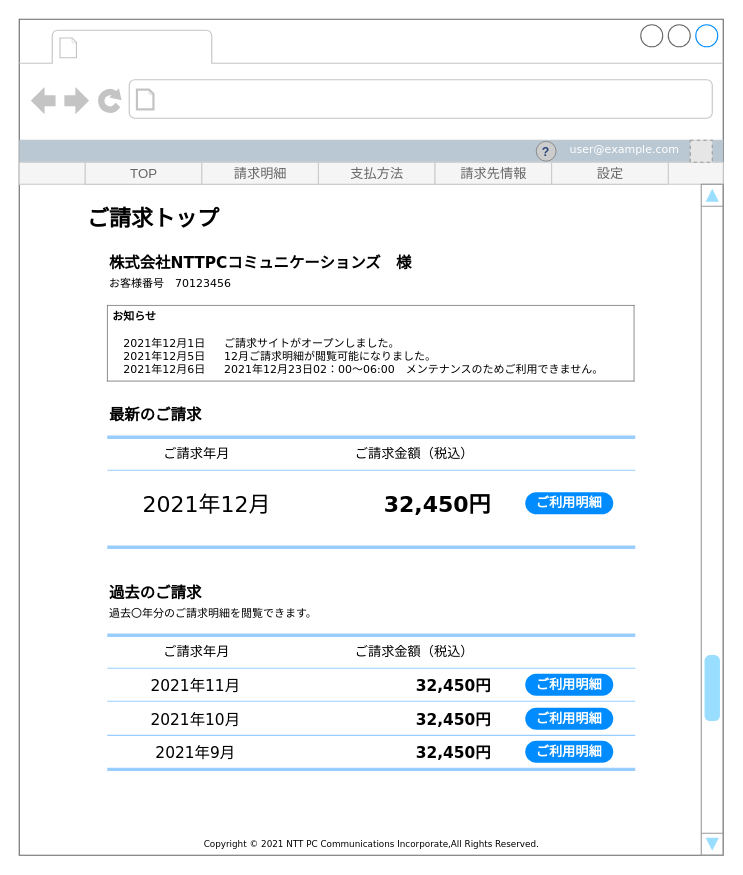
The diagram is 743 pixels wide and 875 high, and some of its shapes have lost their labels. Grey dashed boxes stand in for pictures. Here are the shapes that lost their labels. From the top down, the box of each, then its label:
(84, 31, 206, 61): Page 1
(161, 84, 437, 114): https://billing.ntttpc.co.jp
